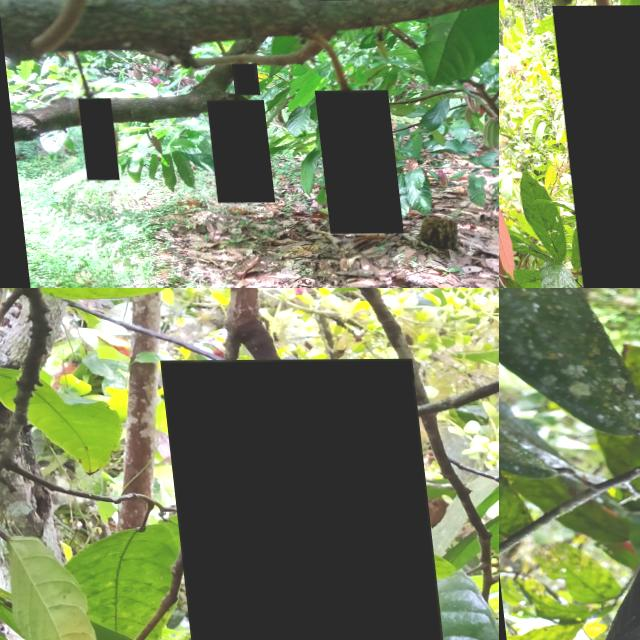Fitoftora: (156, 359, 448, 640), (549, 5, 640, 288), (308, 91, 394, 234)
Sana: (200, 101, 266, 203), (72, 98, 111, 181), (226, 64, 253, 95)
